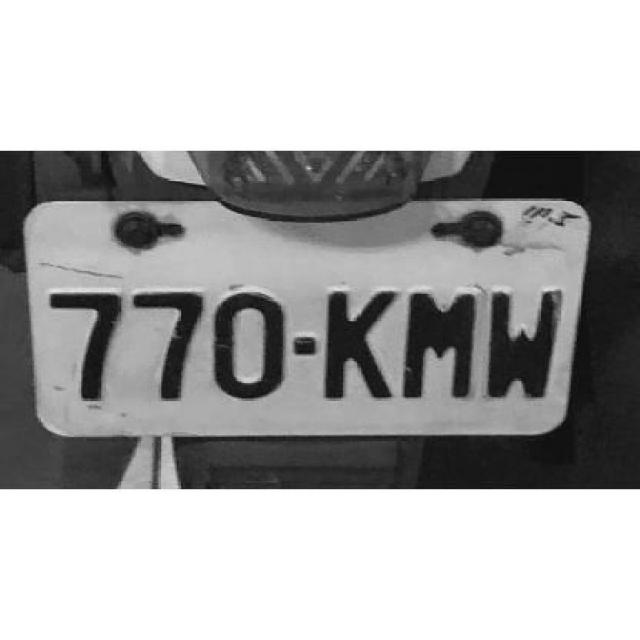-: (294, 334, 318, 354)
0: (212, 288, 290, 402)
7: (45, 284, 126, 408), (131, 286, 206, 405)
K: (320, 286, 397, 403)
M: (400, 286, 477, 402)
W: (485, 286, 566, 402)
